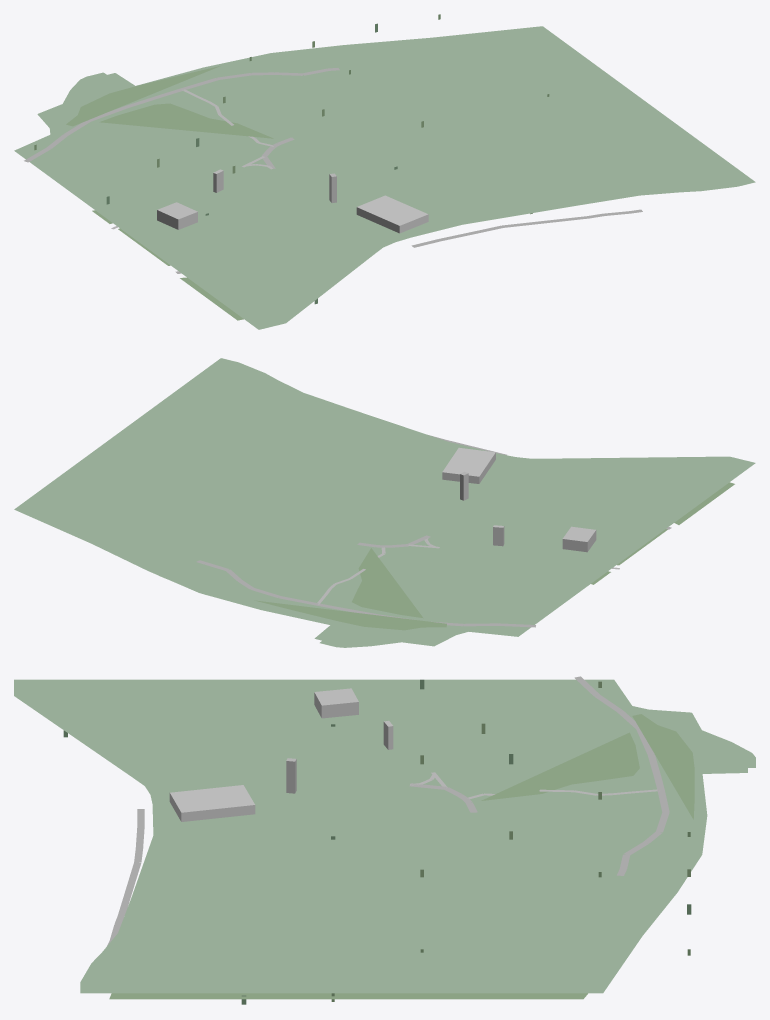
3 renders of one model, top to bottom at view 1: azimuth 30°, elevation 25°; view 2: azimuth 150°, elevation 25°; view 3: azimuth 270°, elevation 25°, orthographic. The views are drawn at different scales.
Size of the model in its own units: 504 by 35.17 by 500.
